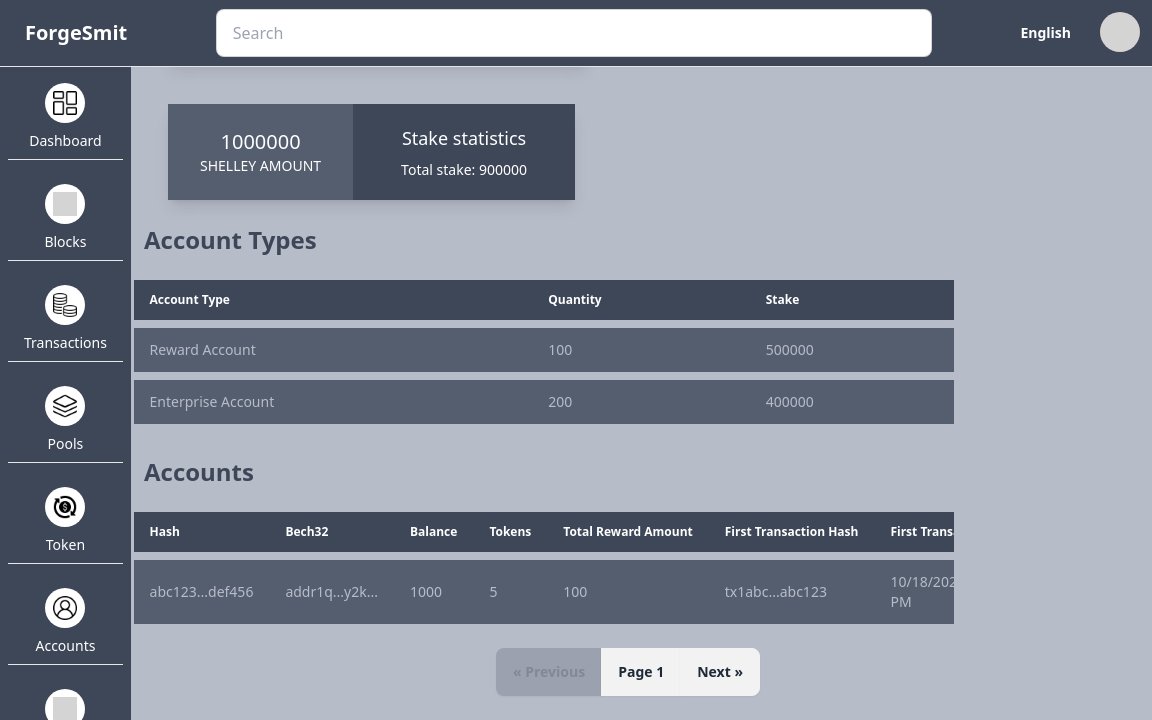
Scenario: Accounts Component › handles pagination correctly
The image size is (1152, 720).
(page scrolled)
Expected: the button "Page 1" is shown, [601,648,681,696]
Click the button "Next »" at (720, 672), box [680,648,760,696]
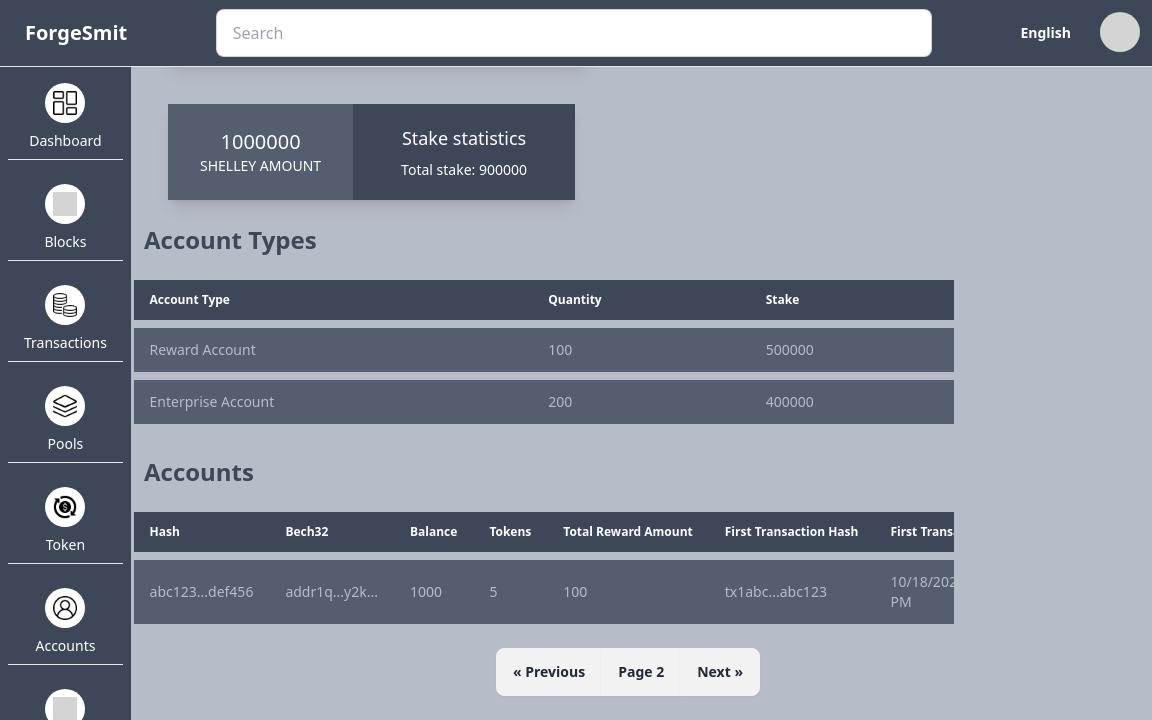
Expected: the button "Page 2" is shown, [601,648,681,696]
